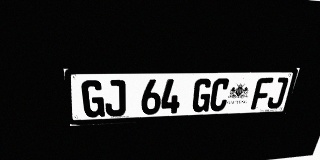4: (160, 79, 182, 114)
6: (141, 79, 162, 115)
C: (209, 78, 231, 112)
F: (250, 78, 274, 110)
G: (81, 80, 105, 118), (191, 78, 213, 112)
J: (104, 80, 126, 117), (266, 77, 289, 109)
